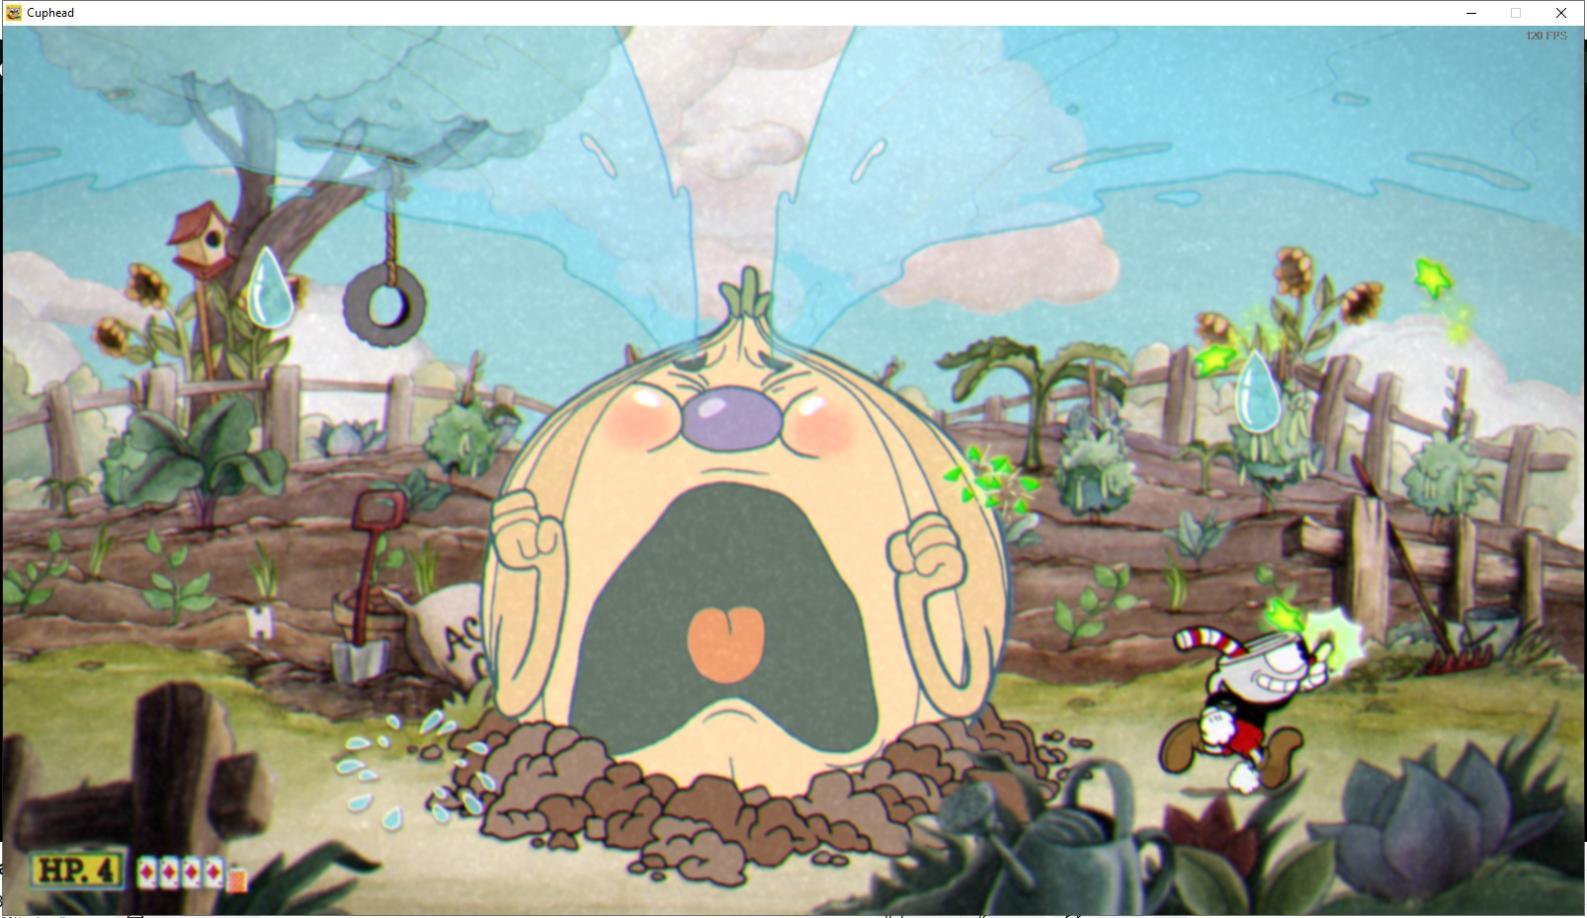hp4: (92, 852, 124, 892)
onion_boss: (442, 274, 1009, 822)
player: (1153, 620, 1328, 800)
rain: (1219, 340, 1294, 449), (247, 239, 306, 344)
